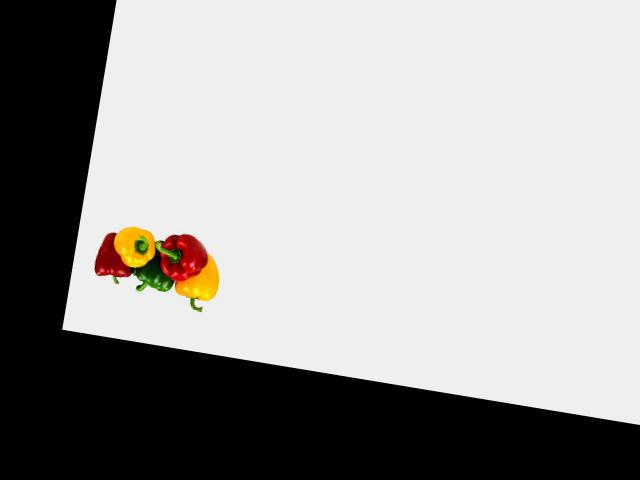bell_pepper: (89, 236, 137, 287)
